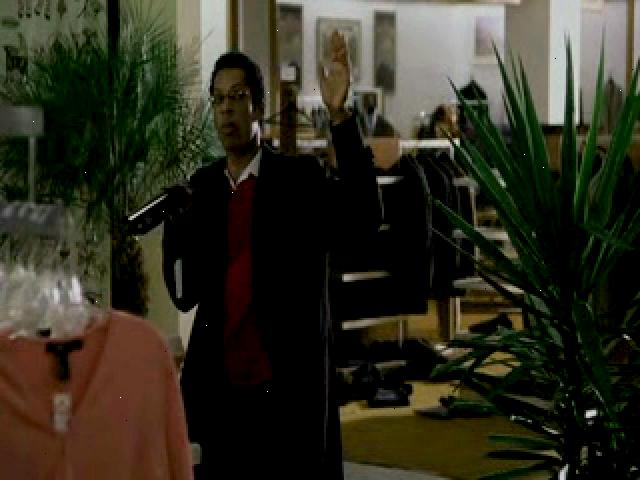L: (122, 29, 382, 476)
